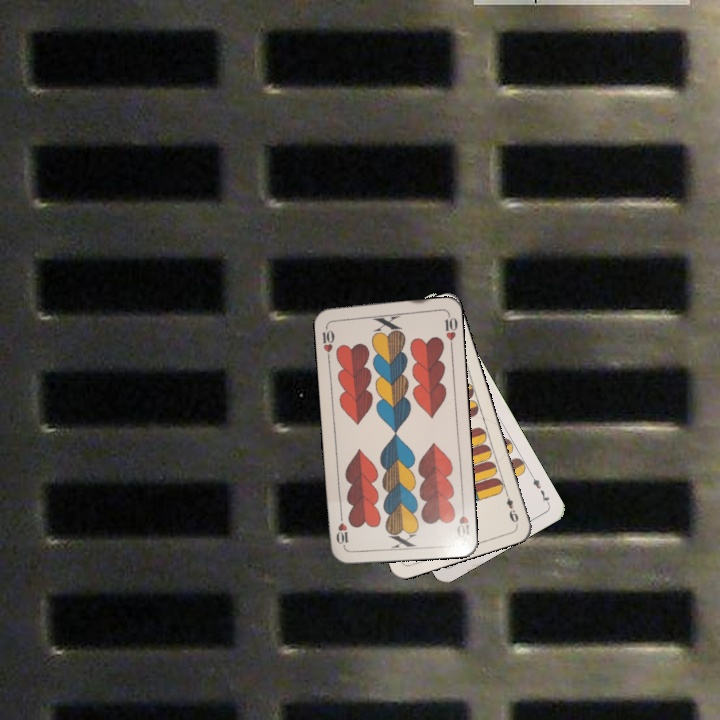E7: (527, 470, 552, 507)
E9: (501, 487, 521, 527)
H10: (452, 500, 473, 541), (318, 320, 337, 361)
